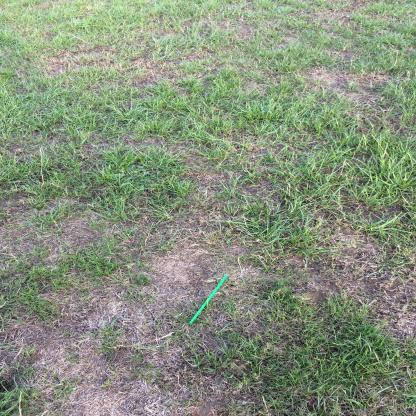plastik: (190, 276, 230, 326)
